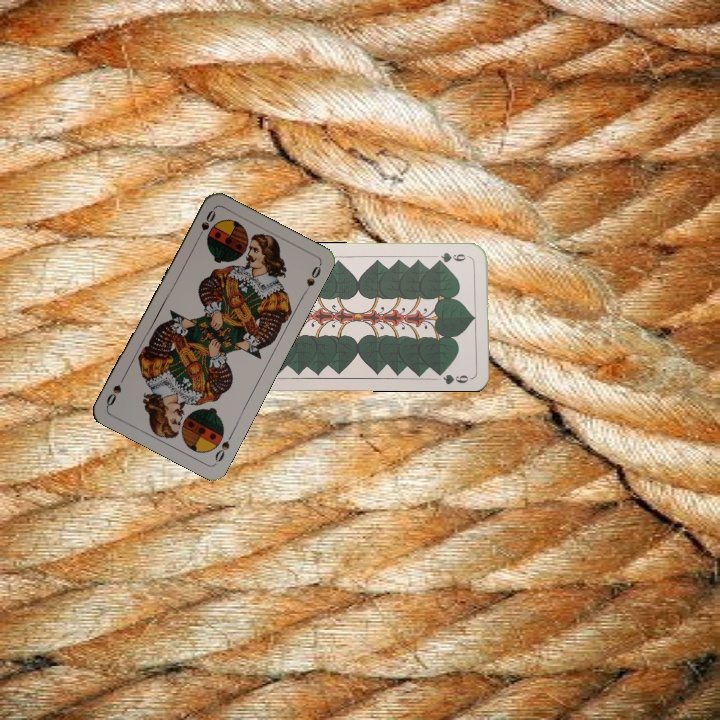G9: (432, 248, 473, 265)
SO: (192, 206, 218, 243), (211, 428, 236, 465)
